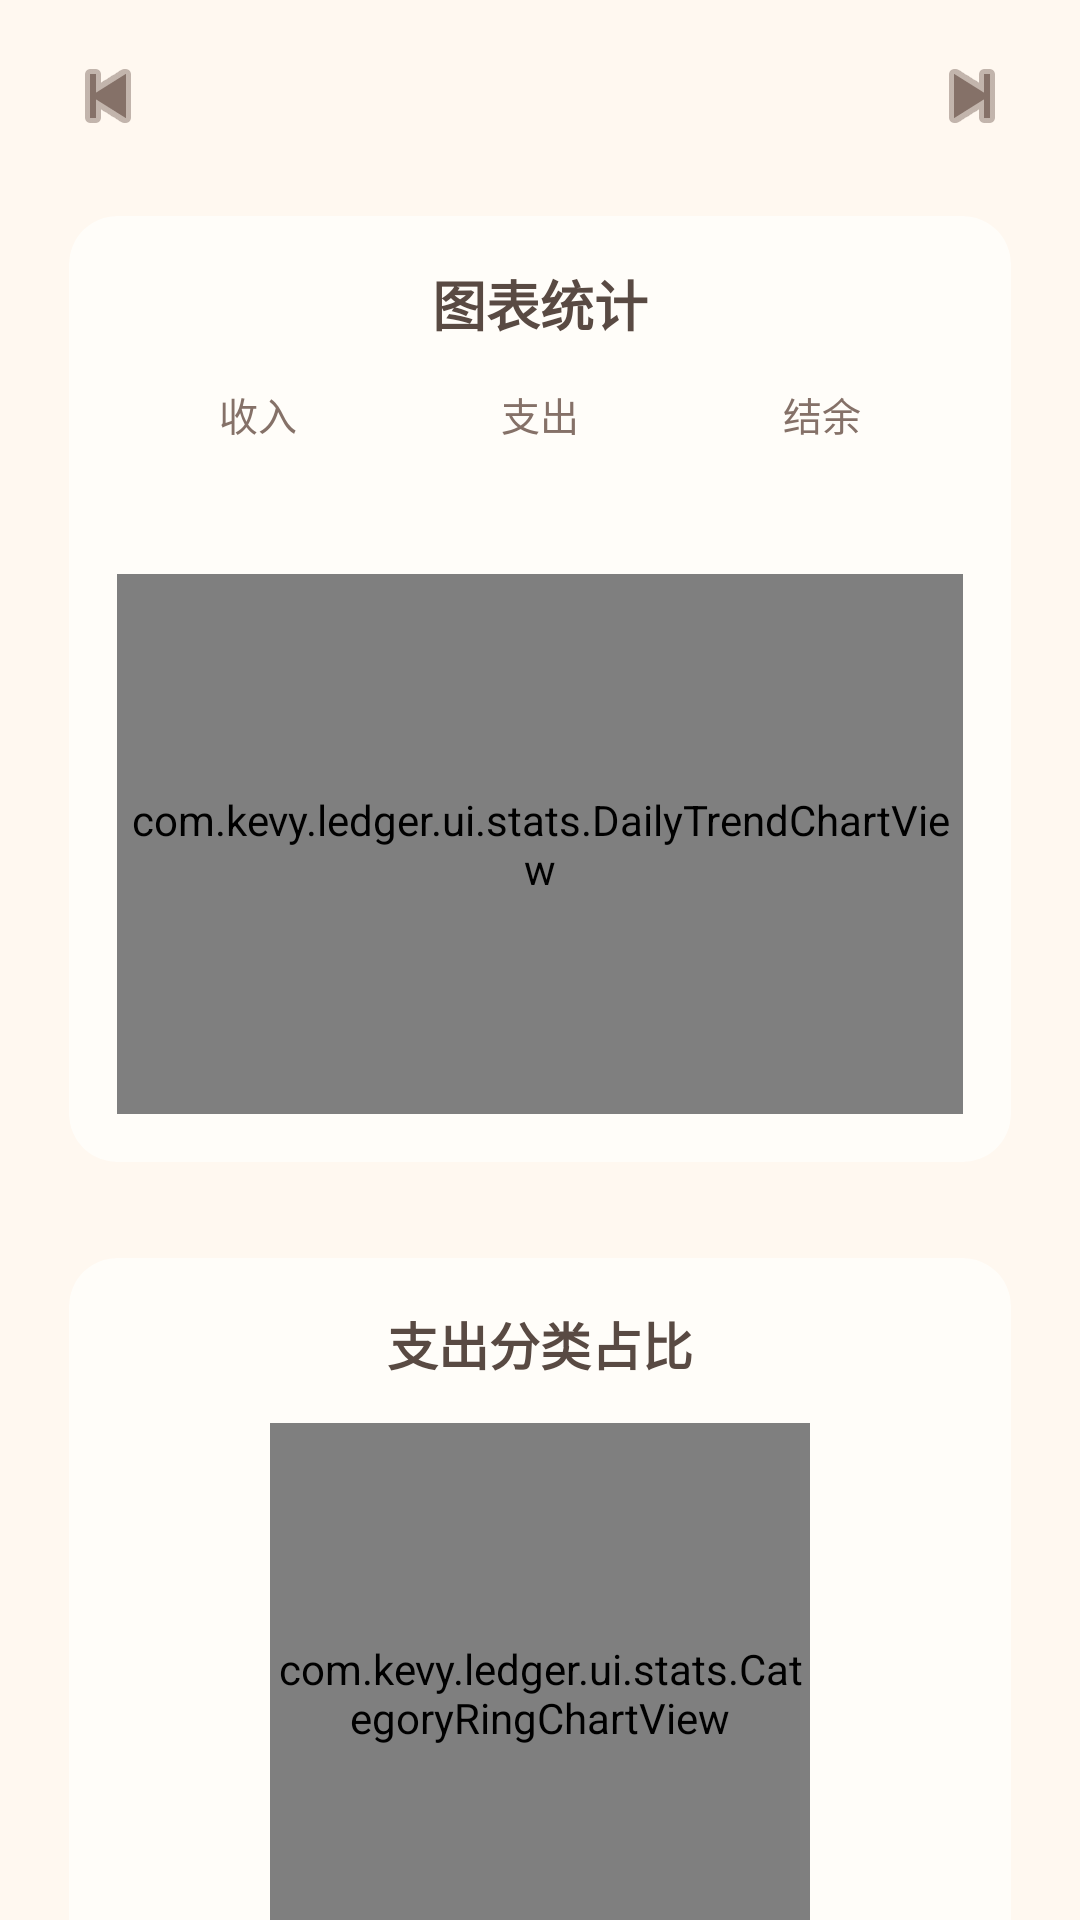

Screen size 1080*1920. Icon name, then its center in pixels as (x,y):
next: (972,96)
previous: (108,96)
